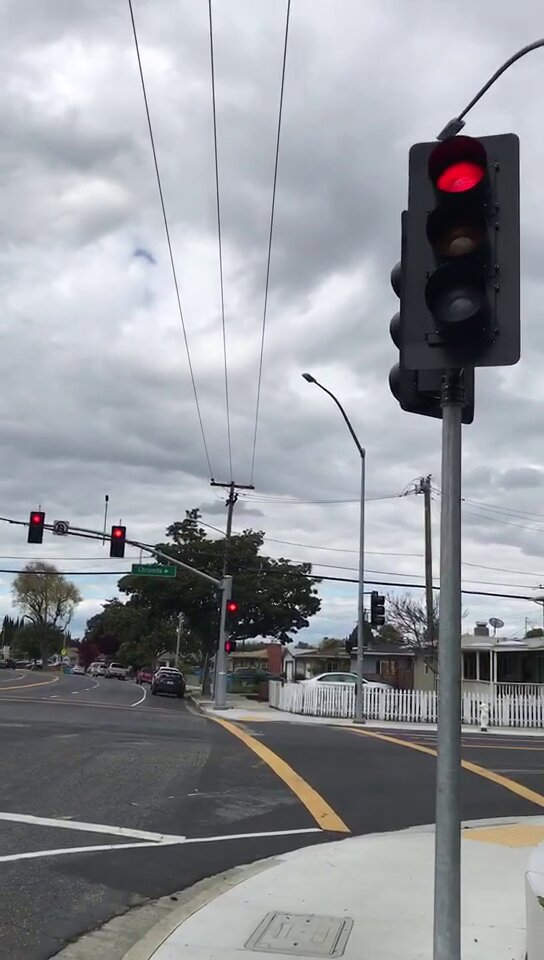red_light: (412, 139, 516, 364), (224, 600, 242, 631), (29, 511, 43, 543), (112, 527, 124, 557)
